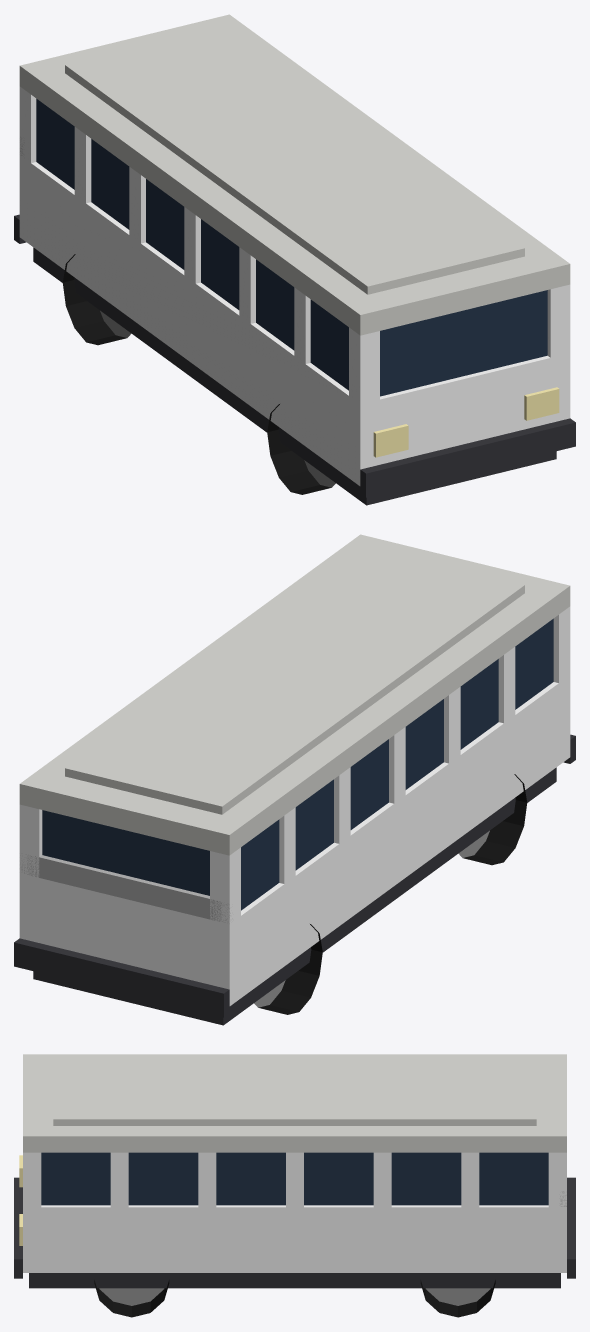
The model's file is bus.glb.
3 renders of one model, top to bottom at view 1: azimuth 30°, elevation 25°; view 2: azimuth 150°, elevation 25°; view 3: azimuth 270°, elevation 25°, orthographic. The views are drawn at different scales.
Size of the model in its own units: 3.25 by 3.42 by 9.3.
